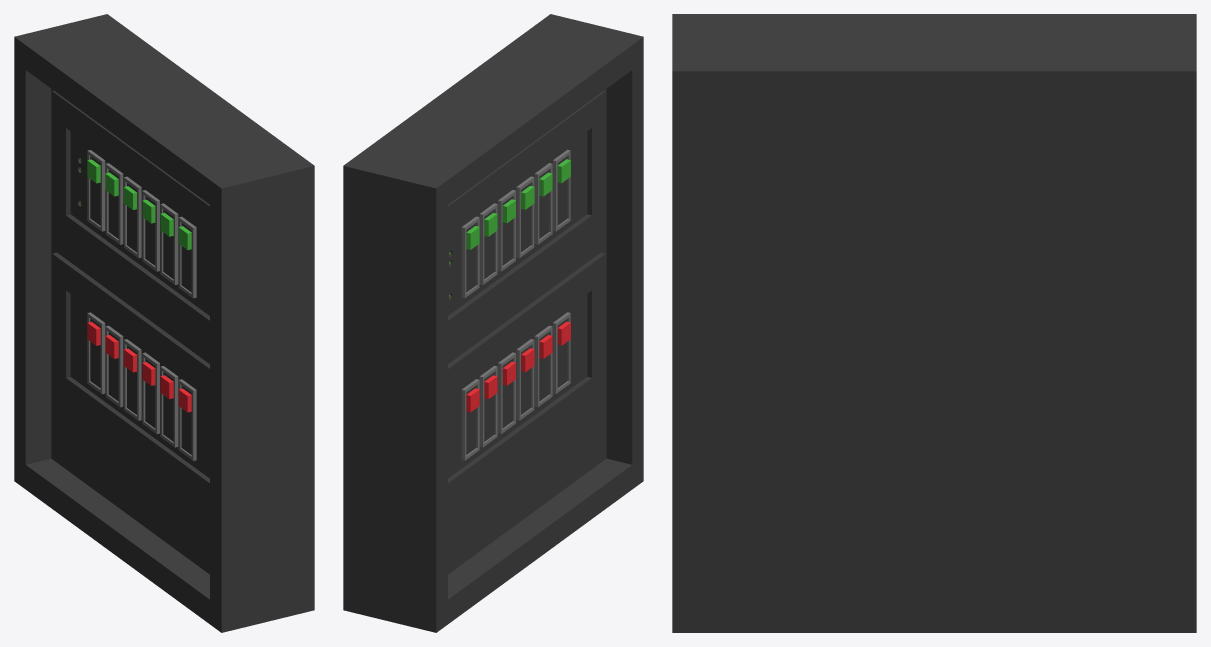
Rendered from щиток и кнопки.fbx.
3 renders of one model, left to right at view 1: azimuth 30°, elevation 25°; view 2: azimuth 150°, elevation 25°; view 3: azimuth 270°, elevation 25°, orthographic. The views are drawn at different scales.
Parts seen in each view (by area): view 1: Cube.004; view 2: Cube.004; view 3: Cube.004.
Part boxes in pixels (left/top/right/bottom): Cube.004: left=14, top=14, right=314, bottom=632; Cube.004: left=343, top=14, right=643, bottom=632; Cube.004: left=672, top=14, right=1196, bottom=632.
Size of what is drawn, in the model's own units: 469 by 122 by 554.
